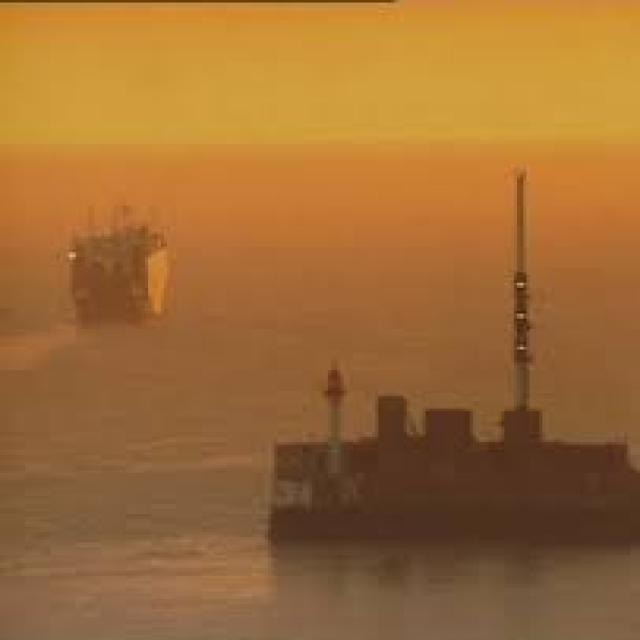cargoship: (248, 313, 640, 536), (56, 197, 168, 319)
